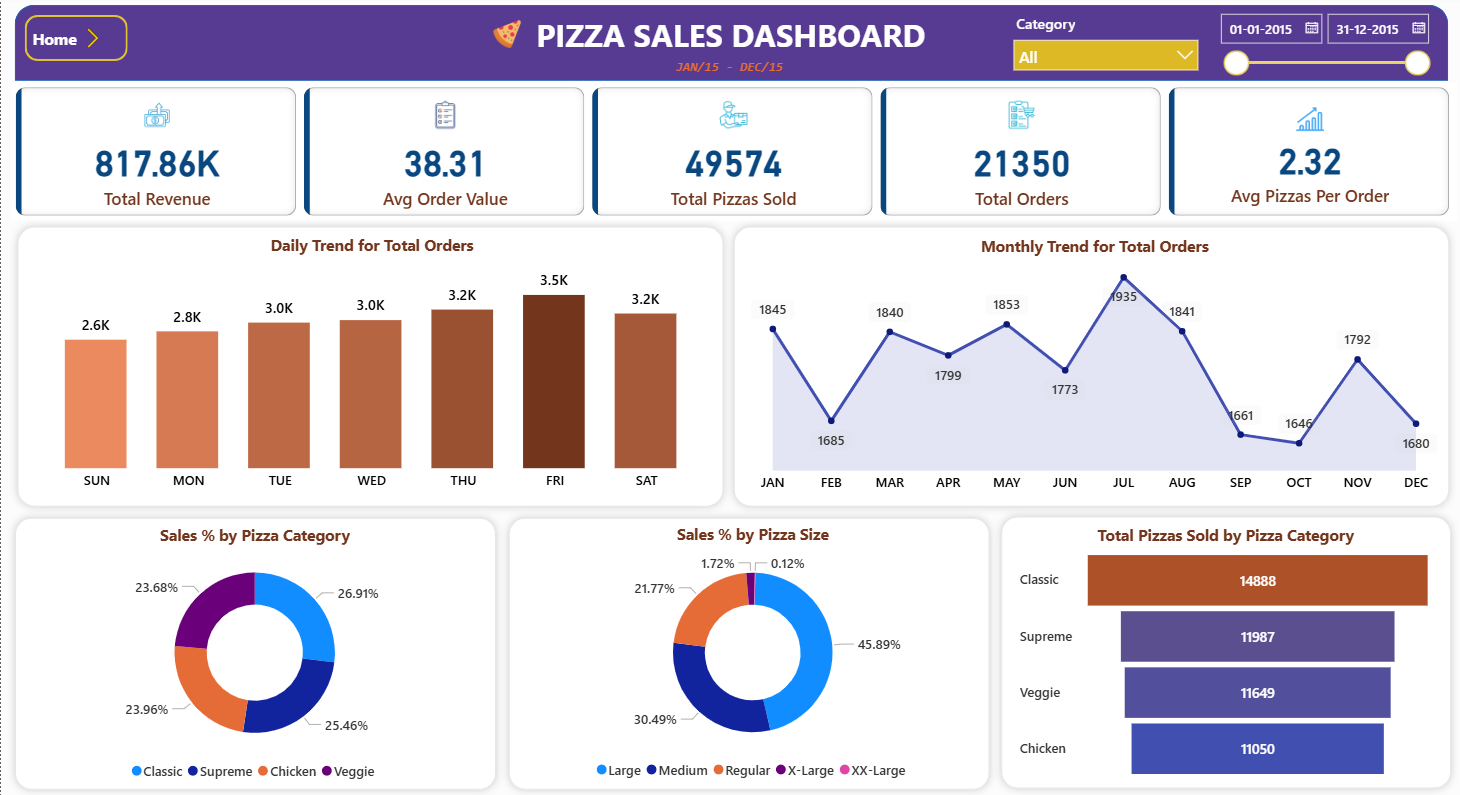

The dashboard page shown, as its layout file describes it:
{"tool":"powerbi","page":{"name":"Home","canvas":[1500,820],"ordinal":0},"visuals":[{"type":"cardVisual","fields":{"Data":["pizza_sales.Total Revenue","pizza_sales.Avg Order Value","pizza_sales.Total Pizzas Sold","pizza_sales.Total Orders","pizza_sales.Avg Pizzas Per Order"]},"box":[9.7,85,1486,142.1],"z":0},{"type":"shape","box":[13.9,5.6,1472.1,78],"z":1000},{"type":"textbox","box":[526.8,8.5,446.5,53.5],"z":2000},{"type":"textbox","box":[650,54.3,197.1,50],"z":3000},{"type":"image","box":[485.9,15.5,66.2,39.4],"z":4000},{"type":"shape","box":[8.4,224.2,740.9,303.6],"z":5000},{"type":"columnChart","title":"Daily Trend for Total Orders","fields":{"Y":["pizza_sales.Total Orders"],"Category":["pizza_sales.Order_Day"]},"box":[23.7,239.5,715.8,273],"z":6000},{"type":"shape","box":[745.1,224.2,750.6,303.6],"z":7000},{"type":"areaChart","title":"Monthly Trend for Total Orders","fields":{"Category":["pizza_sales.Order_Month"],"Y":["pizza_sales.Total Orders"]},"box":[763.2,240.9,718.6,273],"z":8000},{"type":"shape","box":[7,523.6,510,295.2],"z":9000},{"type":"shape","box":[1019.4,522.3,477.7,295.2],"z":10000},{"type":"shape","box":[513.9,523.6,509.7,295.2],"z":11000},{"type":"donutChart","title":"Sales % by Pizza Category","fields":{"Y":["pizza_sales.Total Revenue"],"Category":["pizza_sales.pizza_category"]},"box":[20.9,537.6,480.5,273],"z":12000},{"type":"donutChart","title":"Sales % by Pizza Size","fields":{"Y":["pizza_sales.Total Revenue"],"Category":["pizza_sales.pizza_size"]},"box":[533.4,536,476.3,273],"z":13000},{"type":"funnel","title":"Total Pizzas Sold by Pizza Category","fields":{"Category":["pizza_sales.pizza_category"],"Y":["pizza_sales.Total Pizzas Sold"]},"box":[1040.3,537.6,435.9,273],"z":14000},{"type":"actionButton","box":[24.3,15.7,105.7,47.1],"z":15000},{"type":"image","box":[67.3,24.5,54.5,30],"z":16000},{"type":"slicer","fields":{"Values":["pizza_sales.order_date"]},"box":[1240,4.3,235.7,80],"z":17000},{"type":"slicer","fields":{"Values":["pizza_sales.pizza_category"]},"box":[1030,8.6,210,74.3],"z":18000}]}

Visuals, with their boxes in screenshot pixels (x1, y1, x2, y2), scaled from the page's 1500x820 canvas onto the 1460x795 screenshot:
cardVisual - pizza_sales.Total Revenue x pizza_sales.Avg Order Value: [x1=9, y1=82, x2=1456, y2=220]
shape: [x1=14, y1=5, x2=1446, y2=81]
textbox: [x1=513, y1=8, x2=947, y2=60]
textbox: [x1=633, y1=53, x2=825, y2=101]
image: [x1=473, y1=15, x2=537, y2=53]
shape: [x1=8, y1=217, x2=729, y2=512]
"Daily Trend for Total Orders" columnChart: [x1=23, y1=232, x2=720, y2=497]
shape: [x1=725, y1=217, x2=1456, y2=512]
"Monthly Trend for Total Orders" areaChart: [x1=743, y1=234, x2=1442, y2=498]
shape: [x1=7, y1=508, x2=503, y2=794]
shape: [x1=992, y1=506, x2=1457, y2=793]
shape: [x1=500, y1=508, x2=996, y2=794]
"Sales % by Pizza Category" donutChart: [x1=20, y1=521, x2=488, y2=786]
"Sales % by Pizza Size" donutChart: [x1=519, y1=520, x2=983, y2=784]
"Total Pizzas Sold by Pizza Category" funnel: [x1=1013, y1=521, x2=1437, y2=786]
actionButton: [x1=24, y1=15, x2=127, y2=61]
image: [x1=66, y1=24, x2=119, y2=53]
slicer - pizza_sales.order_date: [x1=1207, y1=4, x2=1436, y2=82]
slicer - pizza_sales.pizza_category: [x1=1003, y1=8, x2=1207, y2=80]
